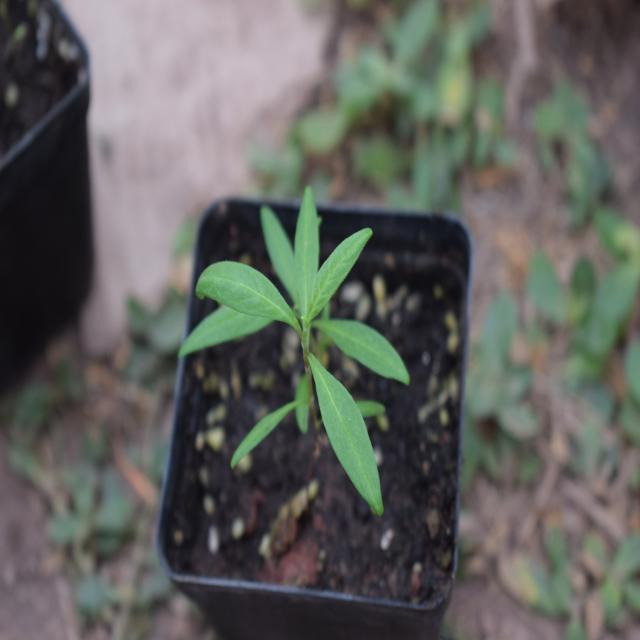white_smart_weed: (178, 197, 441, 544)
